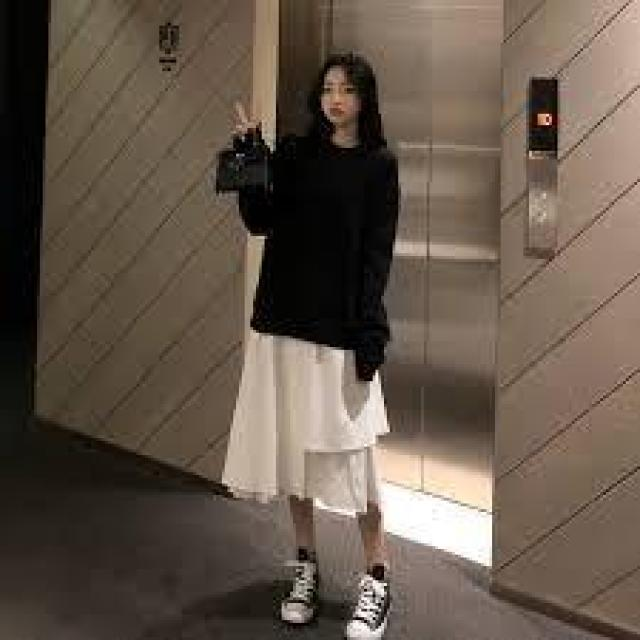skirt: (222, 312, 409, 519)
sweater: (210, 121, 421, 380)
